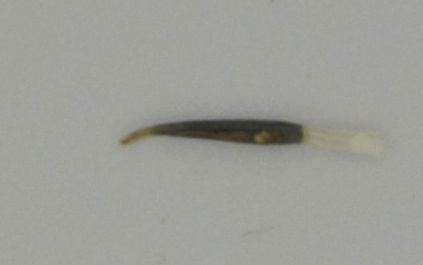เมล็ดงอกแตก: (117, 116, 387, 164)
